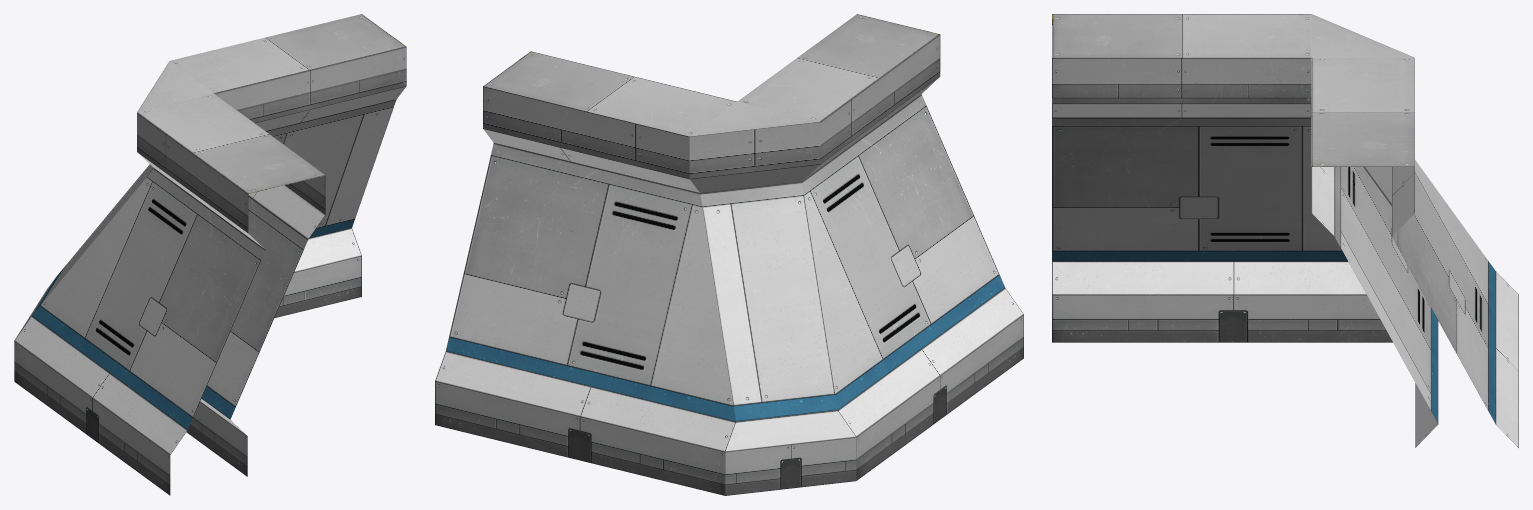
The model's file is Corner_Short_Left_04.FBX.
3 renders of one model, left to right at view 1: azimuth 30°, elevation 25°; view 2: azimuth 150°, elevation 25°; view 3: azimuth 270°, elevation 25°, orthographic. The views are drawn at different scales.
Visible parts, largest first — view 1: Corner_Short_Left_04; view 2: Corner_Short_Left_04; view 3: Corner_Short_Left_04.
Boxes of the visible parts, left/top/right/bottom form: Corner_Short_Left_04: left=14, top=14, right=406, bottom=495; Corner_Short_Left_04: left=435, top=14, right=1023, bottom=495; Corner_Short_Left_04: left=1052, top=14, right=1518, bottom=447.
Size of the model in its own units: 180 by 140 by 180.
